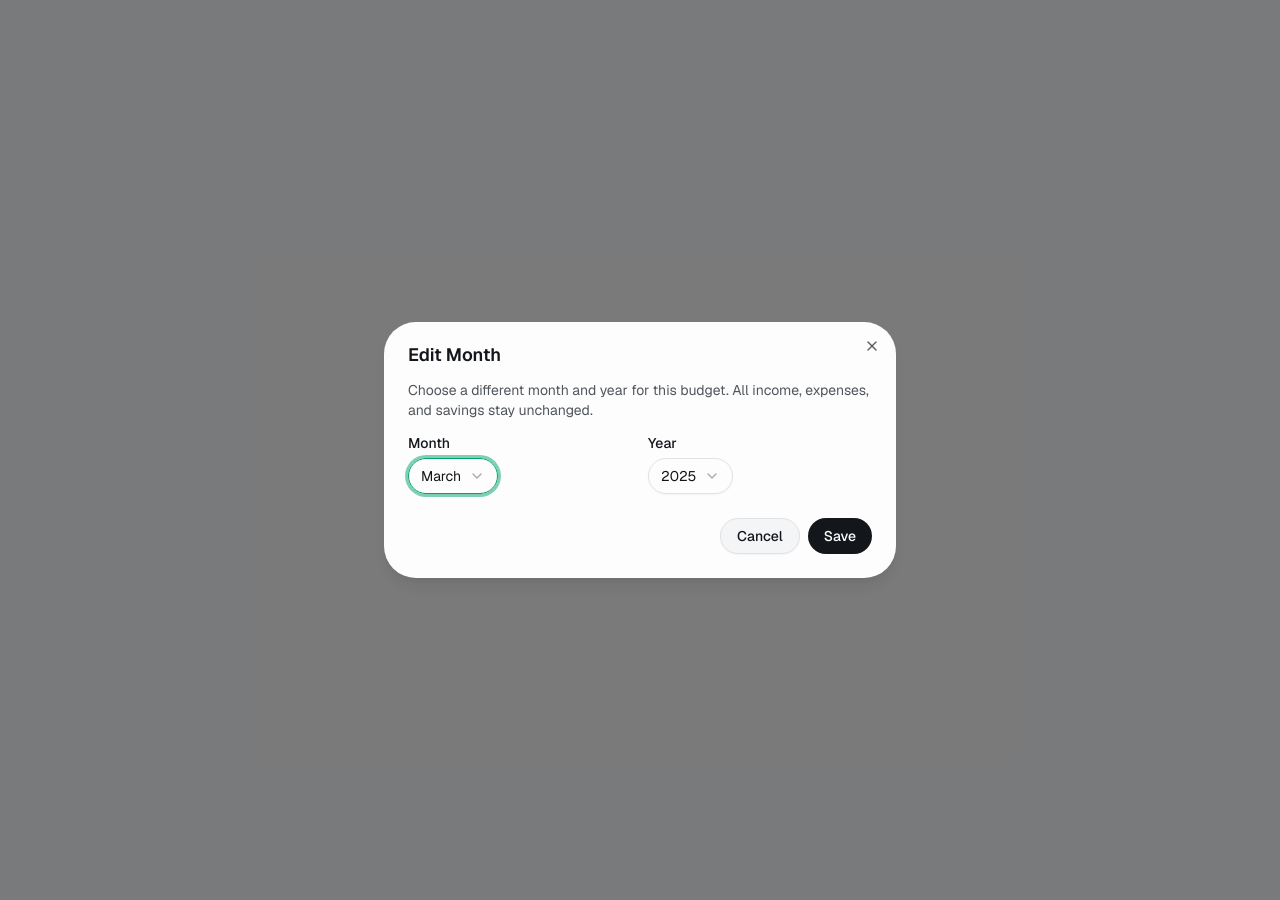
Test: EditBudgetMonthModal › blocks saving onto a month/year that already has a budget
The image size is (1280, 900).
// Move the month onto the locked April budget
Click the dropdown named "month".
click(453, 476)  # box [408,458,498,494]
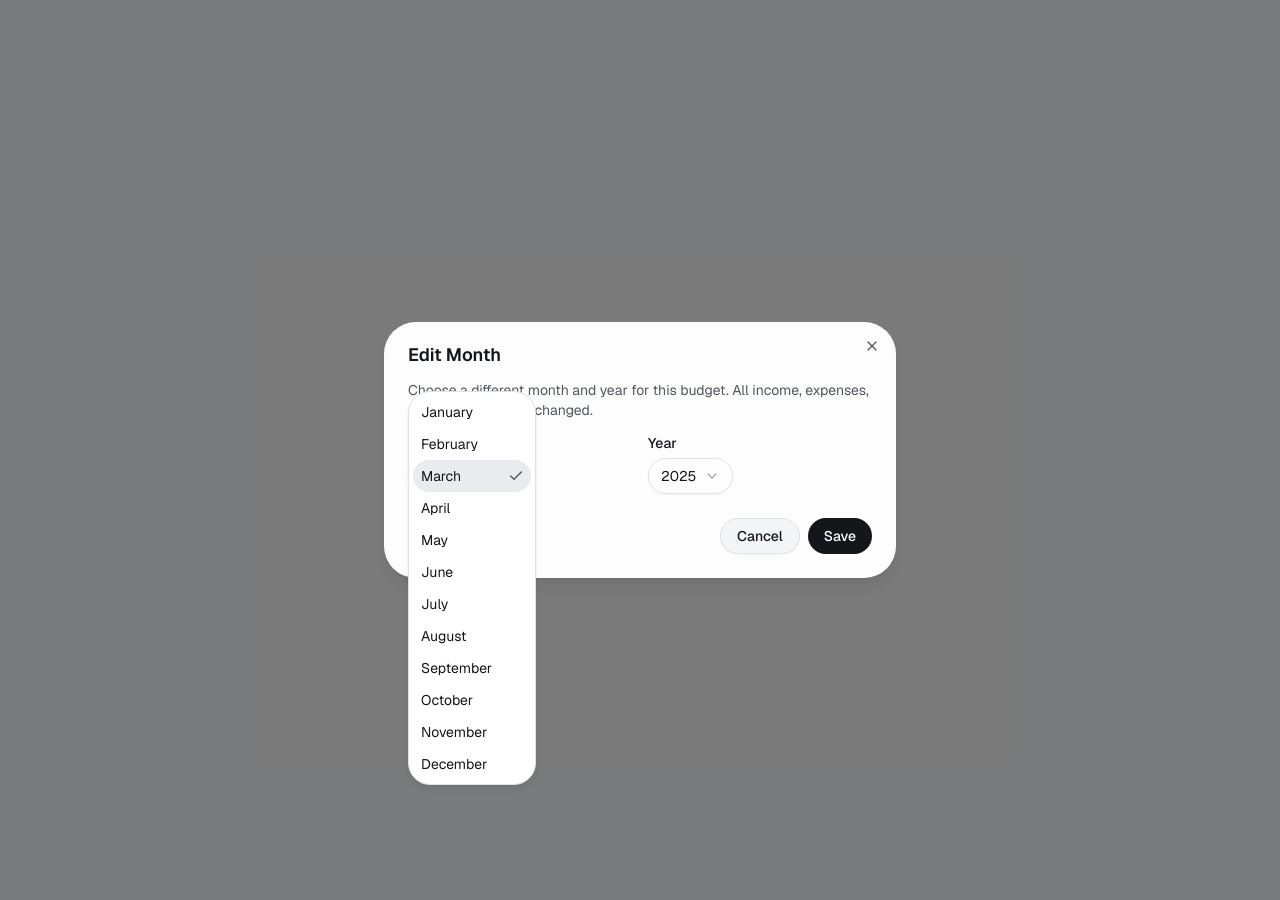
Click the option "April".
click(436, 508)  # box [421,499,450,517]
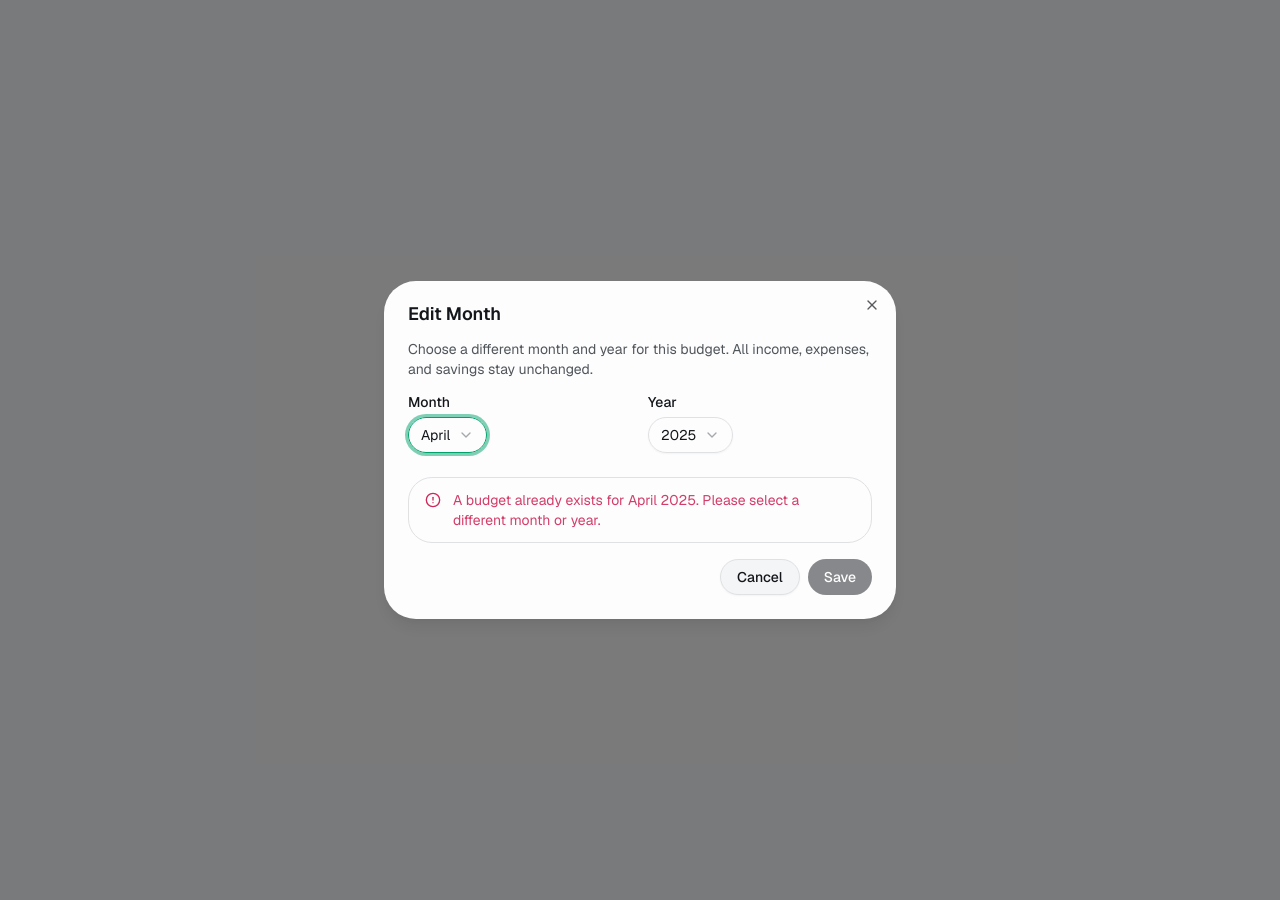
Now the text "A budget already exists" is shown, box [453,491,628,509]
Now the button "Save" is disabled, box [808,559,872,595]
